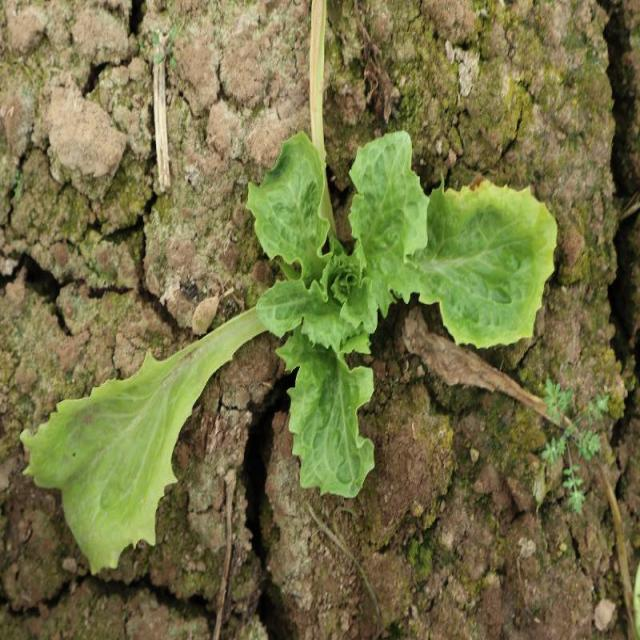crop: (246, 127, 560, 498)
